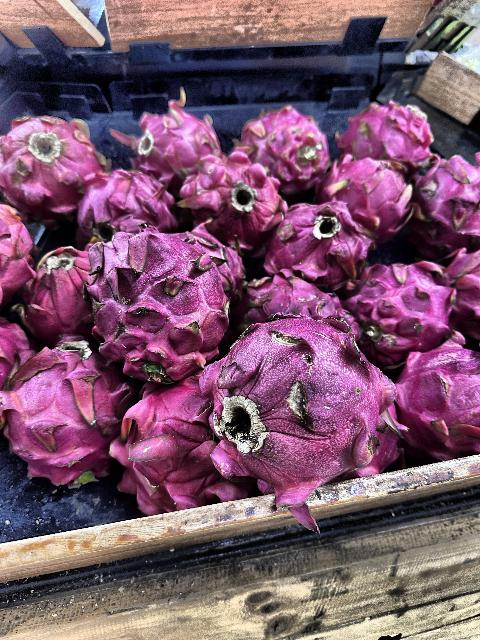buah-naga-matang: (216, 313, 410, 487), (88, 224, 230, 370), (117, 381, 241, 524), (6, 350, 136, 482), (352, 252, 454, 361), (174, 147, 286, 245), (2, 112, 104, 216), (238, 100, 344, 198), (388, 340, 480, 452), (248, 250, 352, 348), (272, 197, 380, 291), (76, 161, 192, 247), (338, 87, 444, 167), (106, 98, 215, 174), (316, 154, 414, 236), (410, 148, 480, 252), (24, 242, 80, 338)
